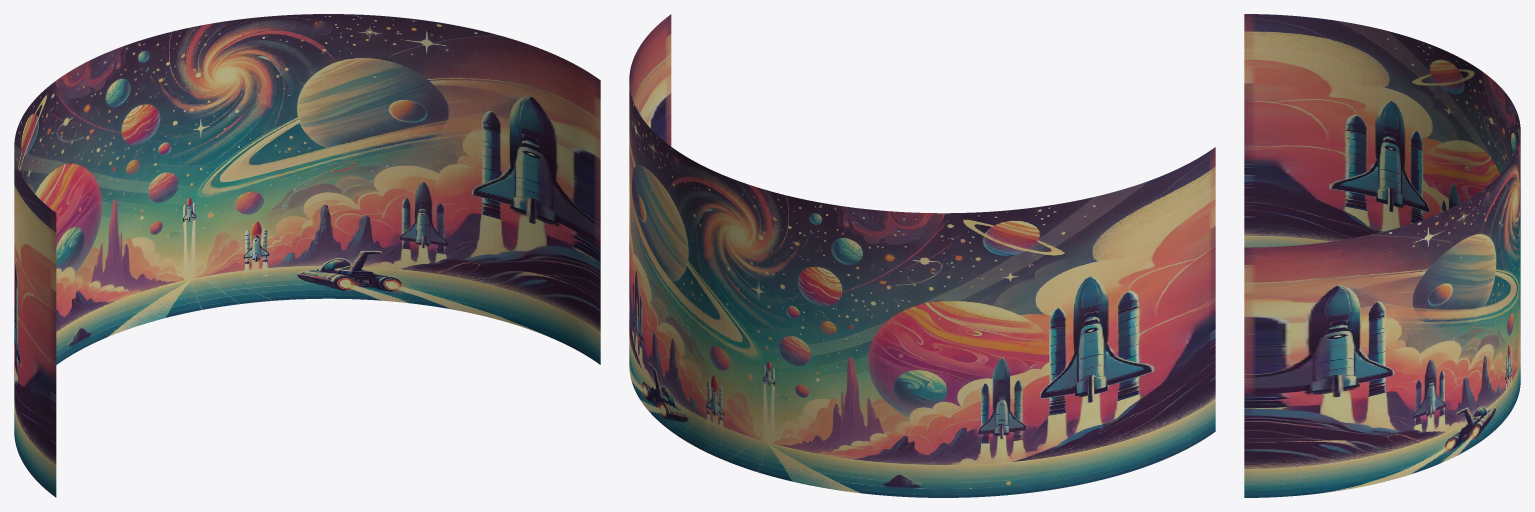
The model's file is Background_fbx_common_textured.fbx.
3 renders of one model, left to right at view 1: azimuth 30°, elevation 25°; view 2: azimuth 150°, elevation 25°; view 3: azimuth 270°, elevation 25°, orthographic. The views are drawn at different scales.
Visible parts, largest first — view 1: Obj; view 2: Obj; view 3: Obj.
Part boxes in pixels (x1,y1,x2,y2): Obj: (14, 14, 600, 497); Obj: (629, 14, 1215, 497); Obj: (1244, 14, 1520, 497).
Bounding box in the file's own units: 200 × 100 × 100.
1 material, 1 textured.
